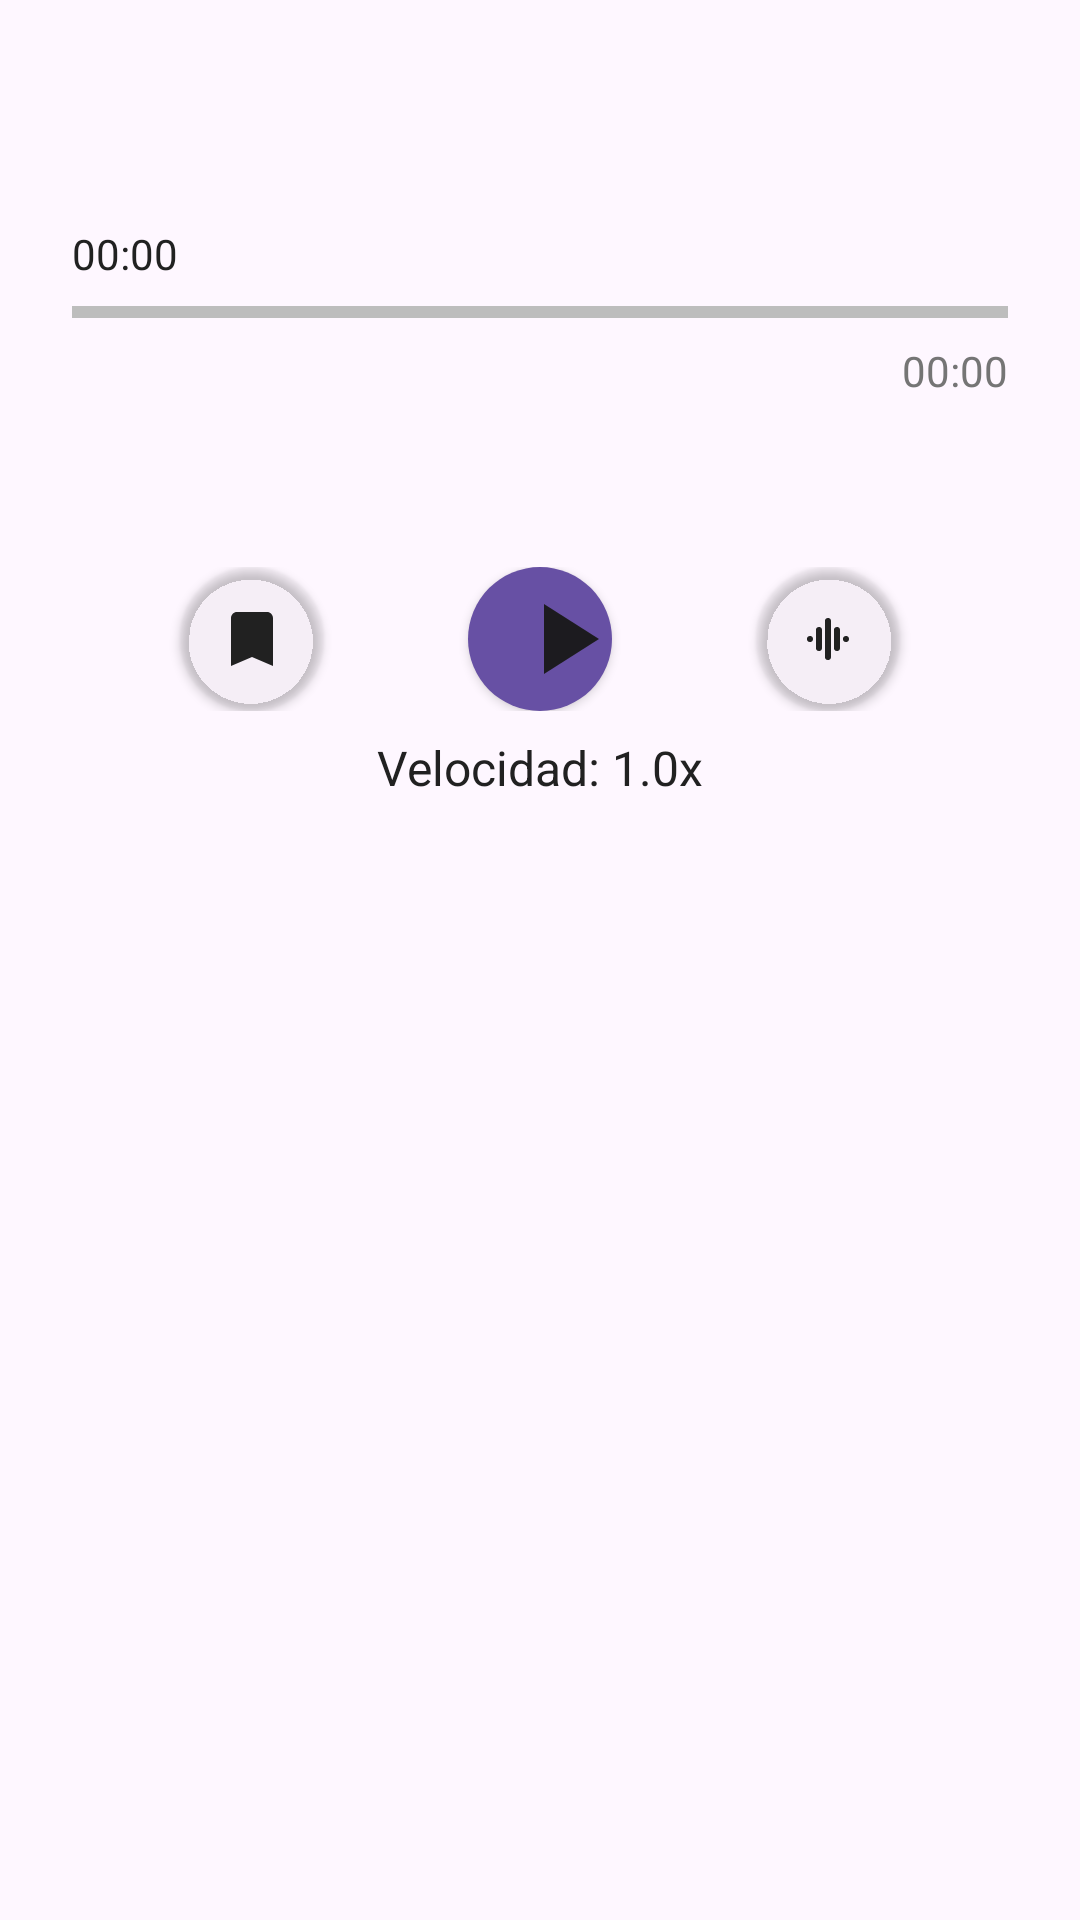

Icons on this 1080w x 1920h Android screen, each with its box as (left=x1, top=y1, right=x2, bottom=y2):
bookmark: (left=180, top=567, right=324, bottom=711)
play: (left=468, top=567, right=612, bottom=711)
